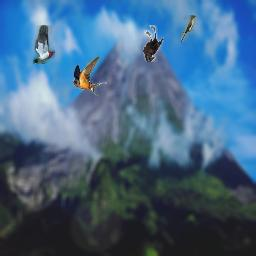Crow: (143, 25, 164, 62)
Cuckoo: (181, 15, 196, 42)
Swallow: (73, 56, 107, 96)
Woodpecker: (33, 25, 55, 64)
